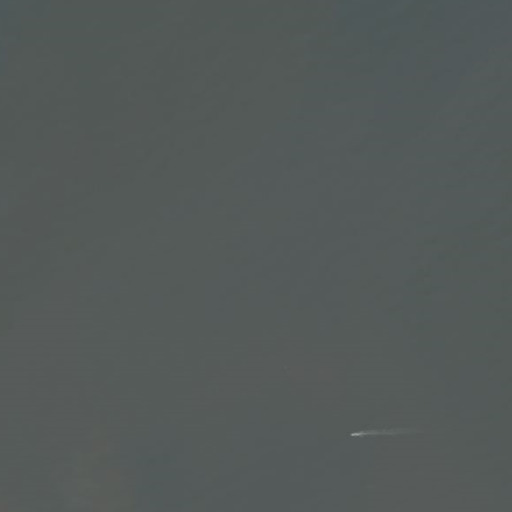ship: (349, 430, 363, 439)
